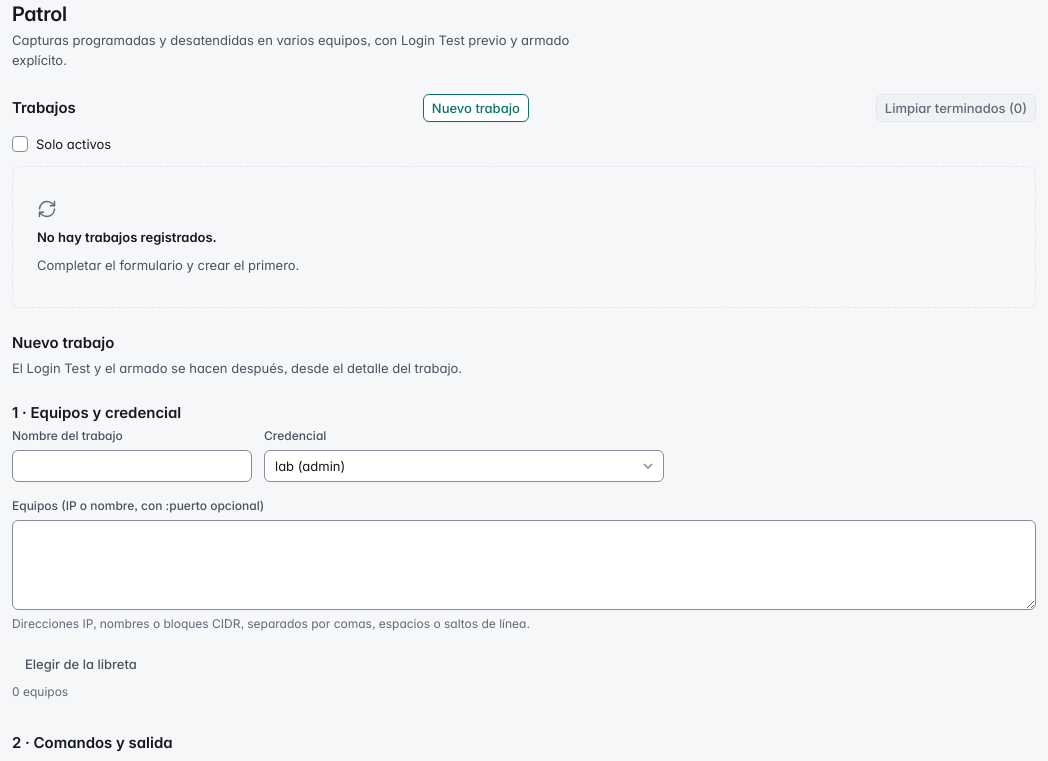
it: un tipo de dato desconocido usa el nombre del dato como etiqueta y sin ayuda, no claves crudas
The image size is (1048, 761).
Type "caso-3" into the field labelled "Nombre del trabajo".
click(132, 466); type("caso-3")  # box [12,450,252,482]
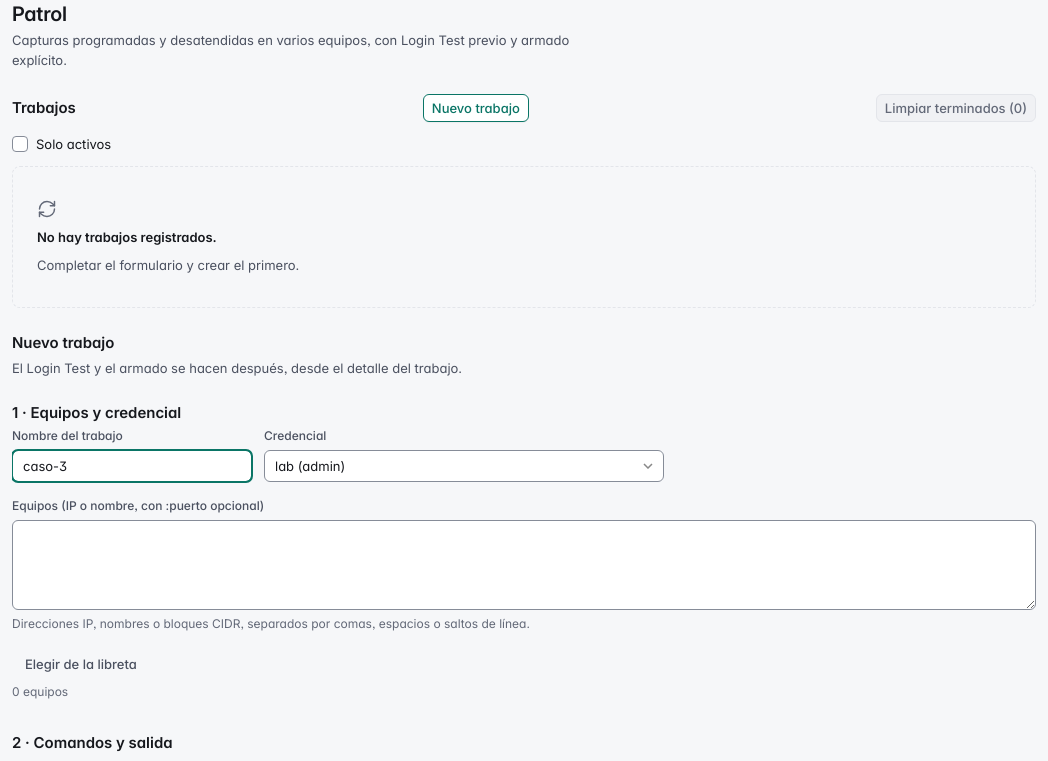
Type "10.0.0.1" into the text box labelled "Equipos (IP o nombre, con :puerto opcional)".
click(524, 565); type("10.0.0.1")  # box [12,520,1036,610]
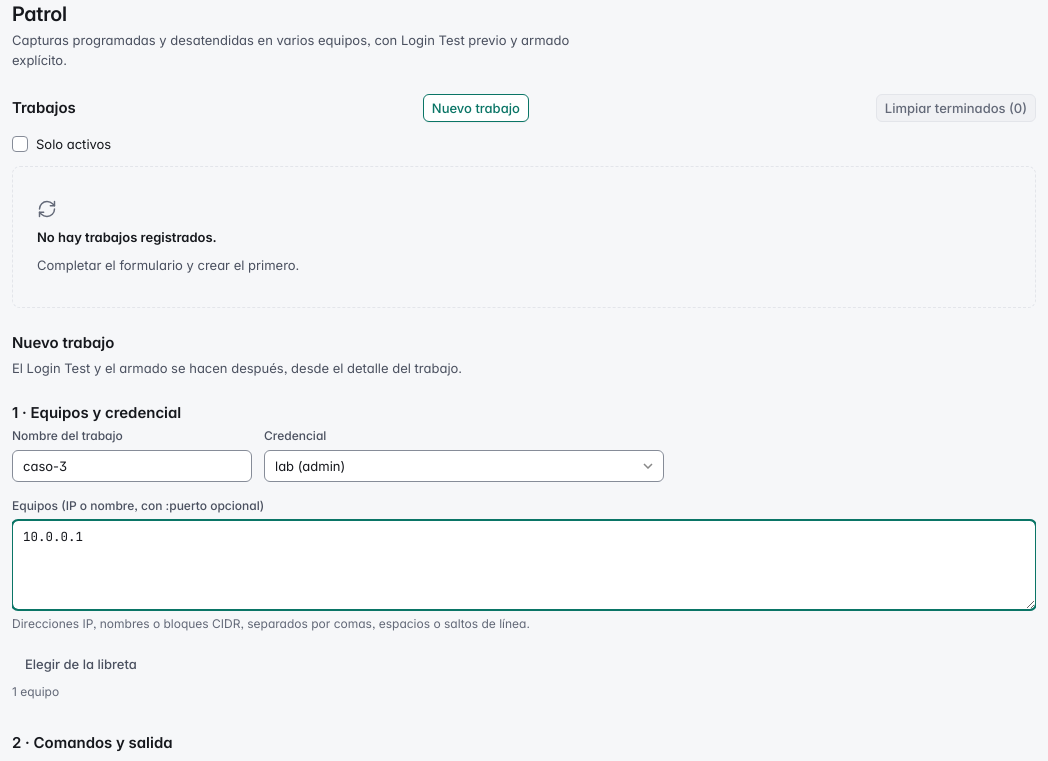
Select "lab (admin)" in the dropdown labelled "Credencial" at [464, 466], box [264,450,664,482]
(page scrolled)
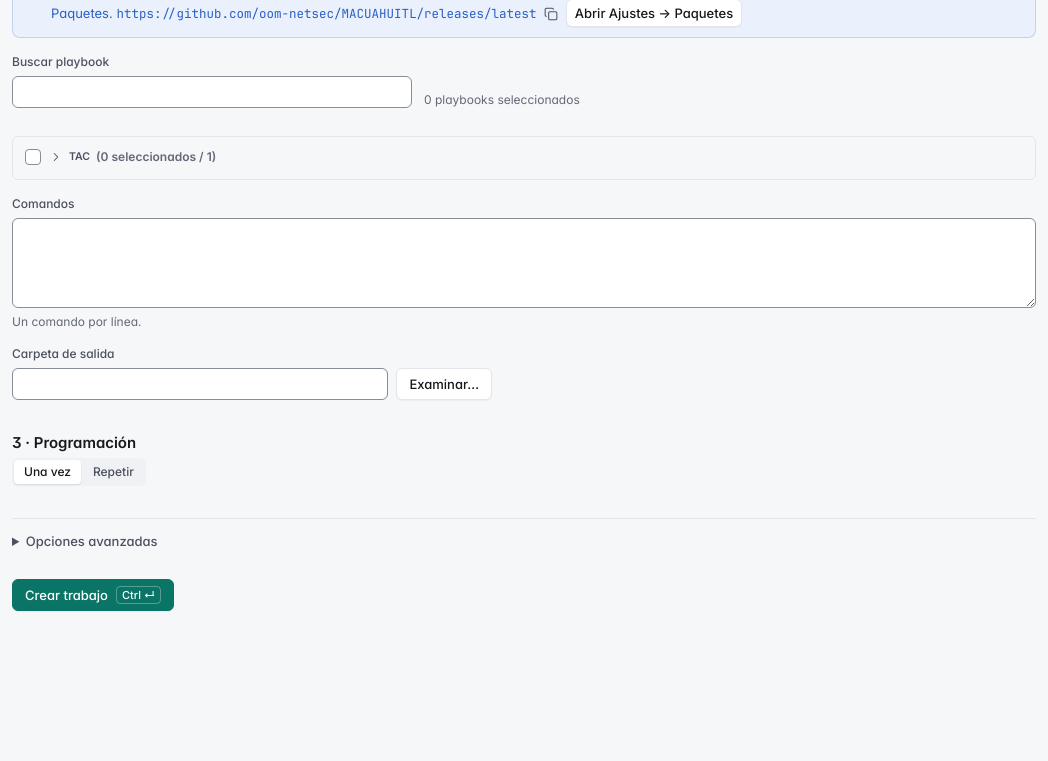
Type "/home/u/out" into the field labelled "Carpeta de salida".
click(200, 384); type("/home/u/out")  # box [12,368,388,400]
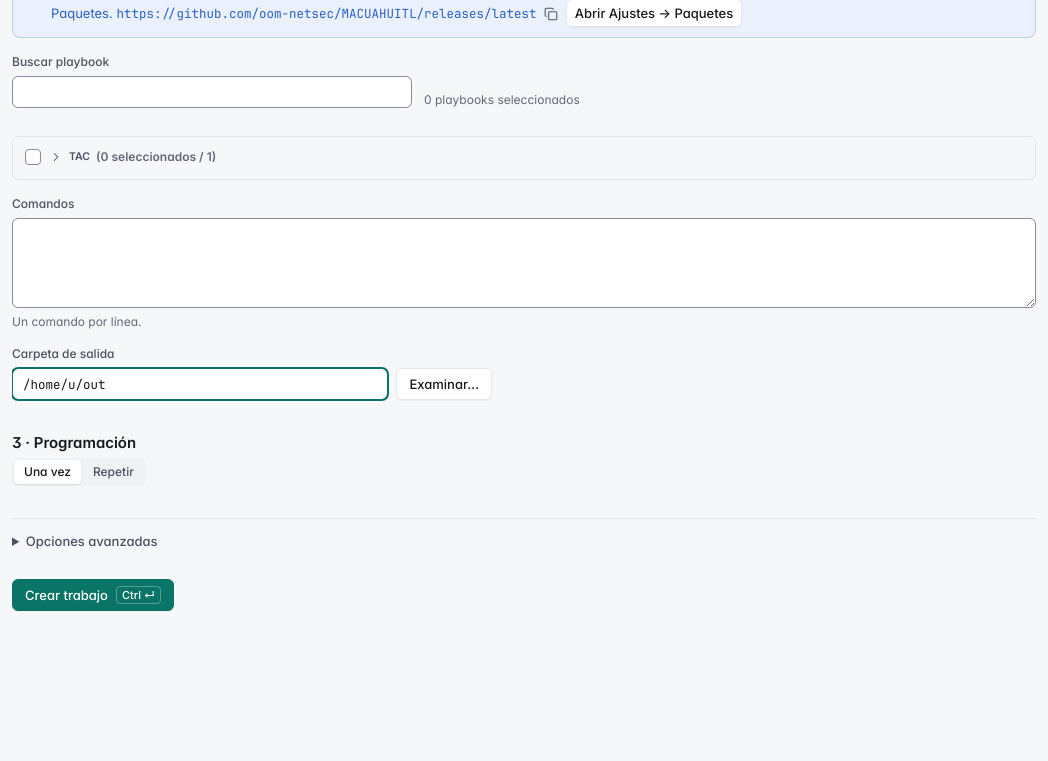
Click the button "TAC (0 seleccionados / 1)".
click(156, 156)  # box [49,141,1023,173]
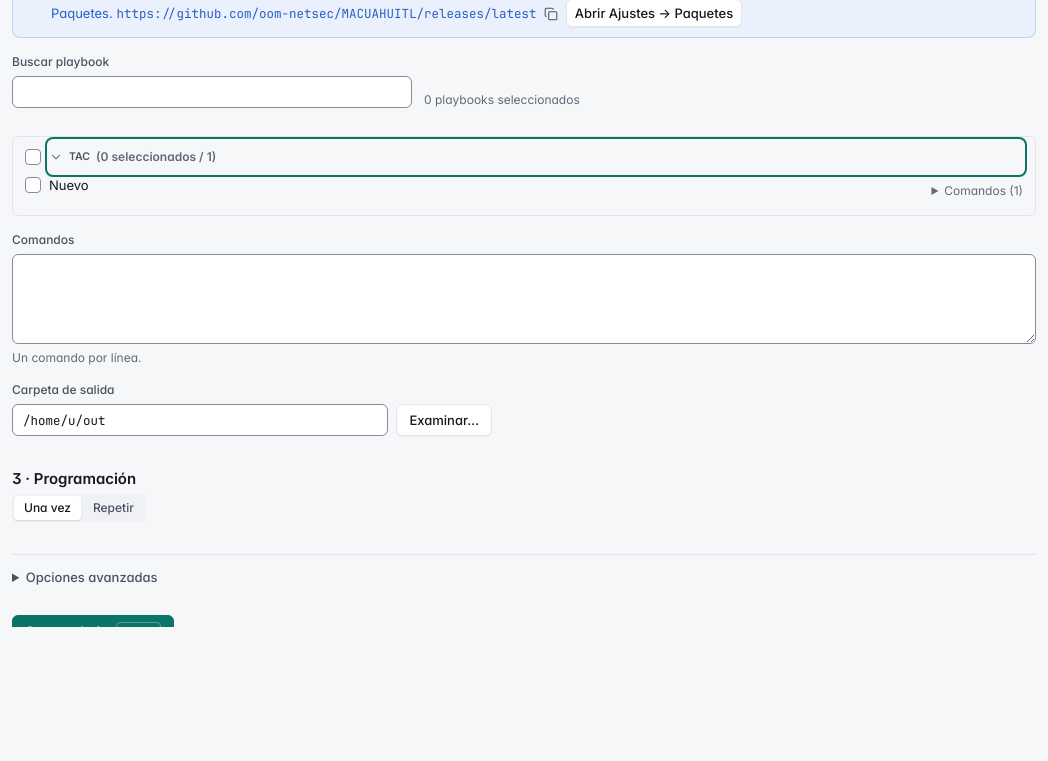
Click the checkbox labelled "Nuevo".
click(33, 185)  # box [25,177,41,193]
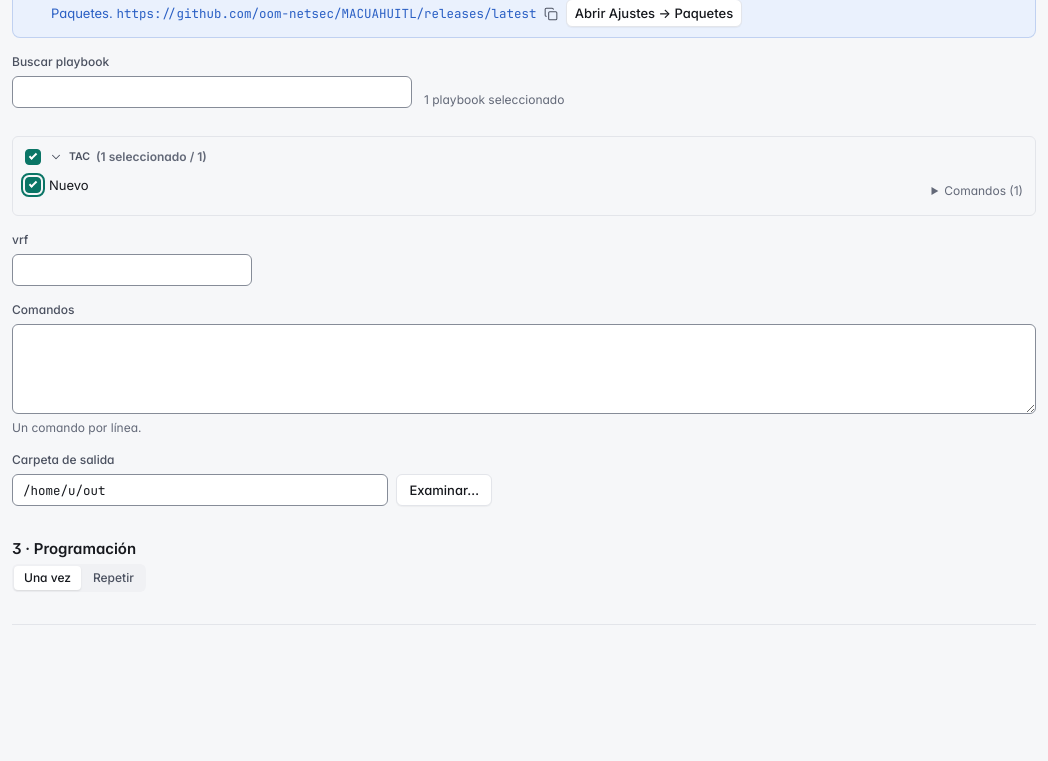
Expected: the field labelled "vrf" is shown, [12,254,252,286]
